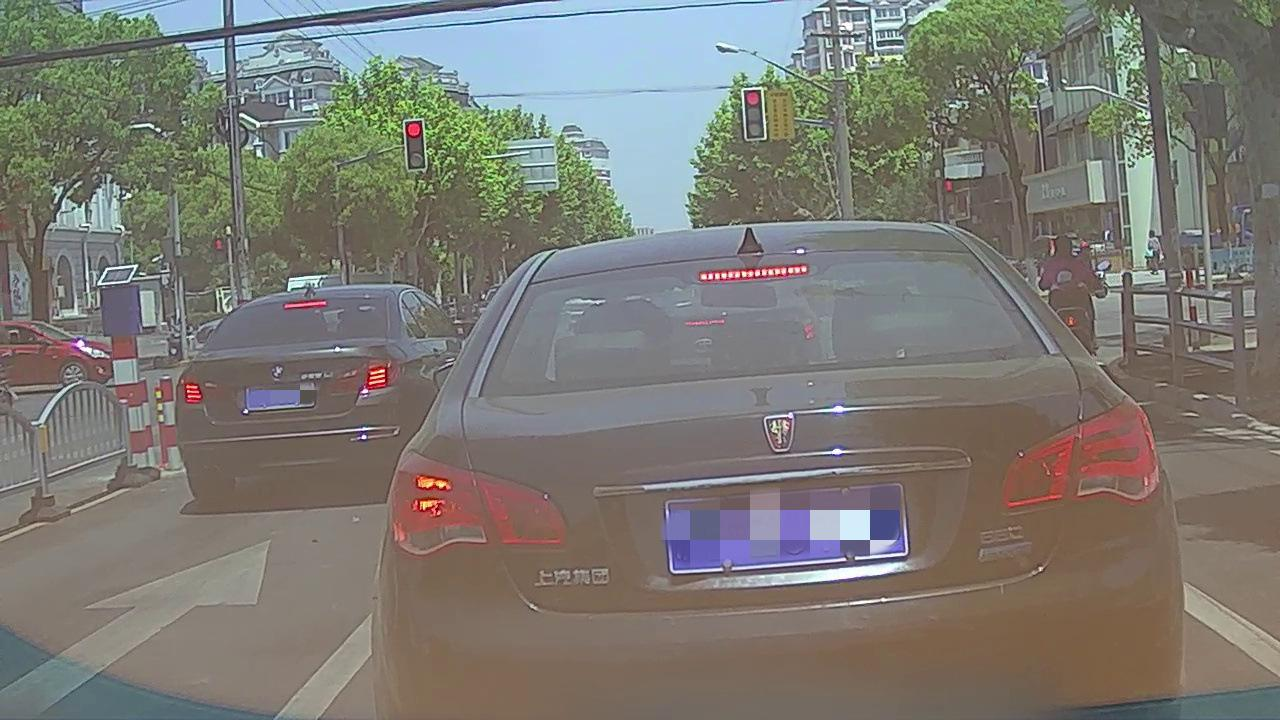traffic_light: (404, 120, 426, 168), (745, 89, 767, 137)
